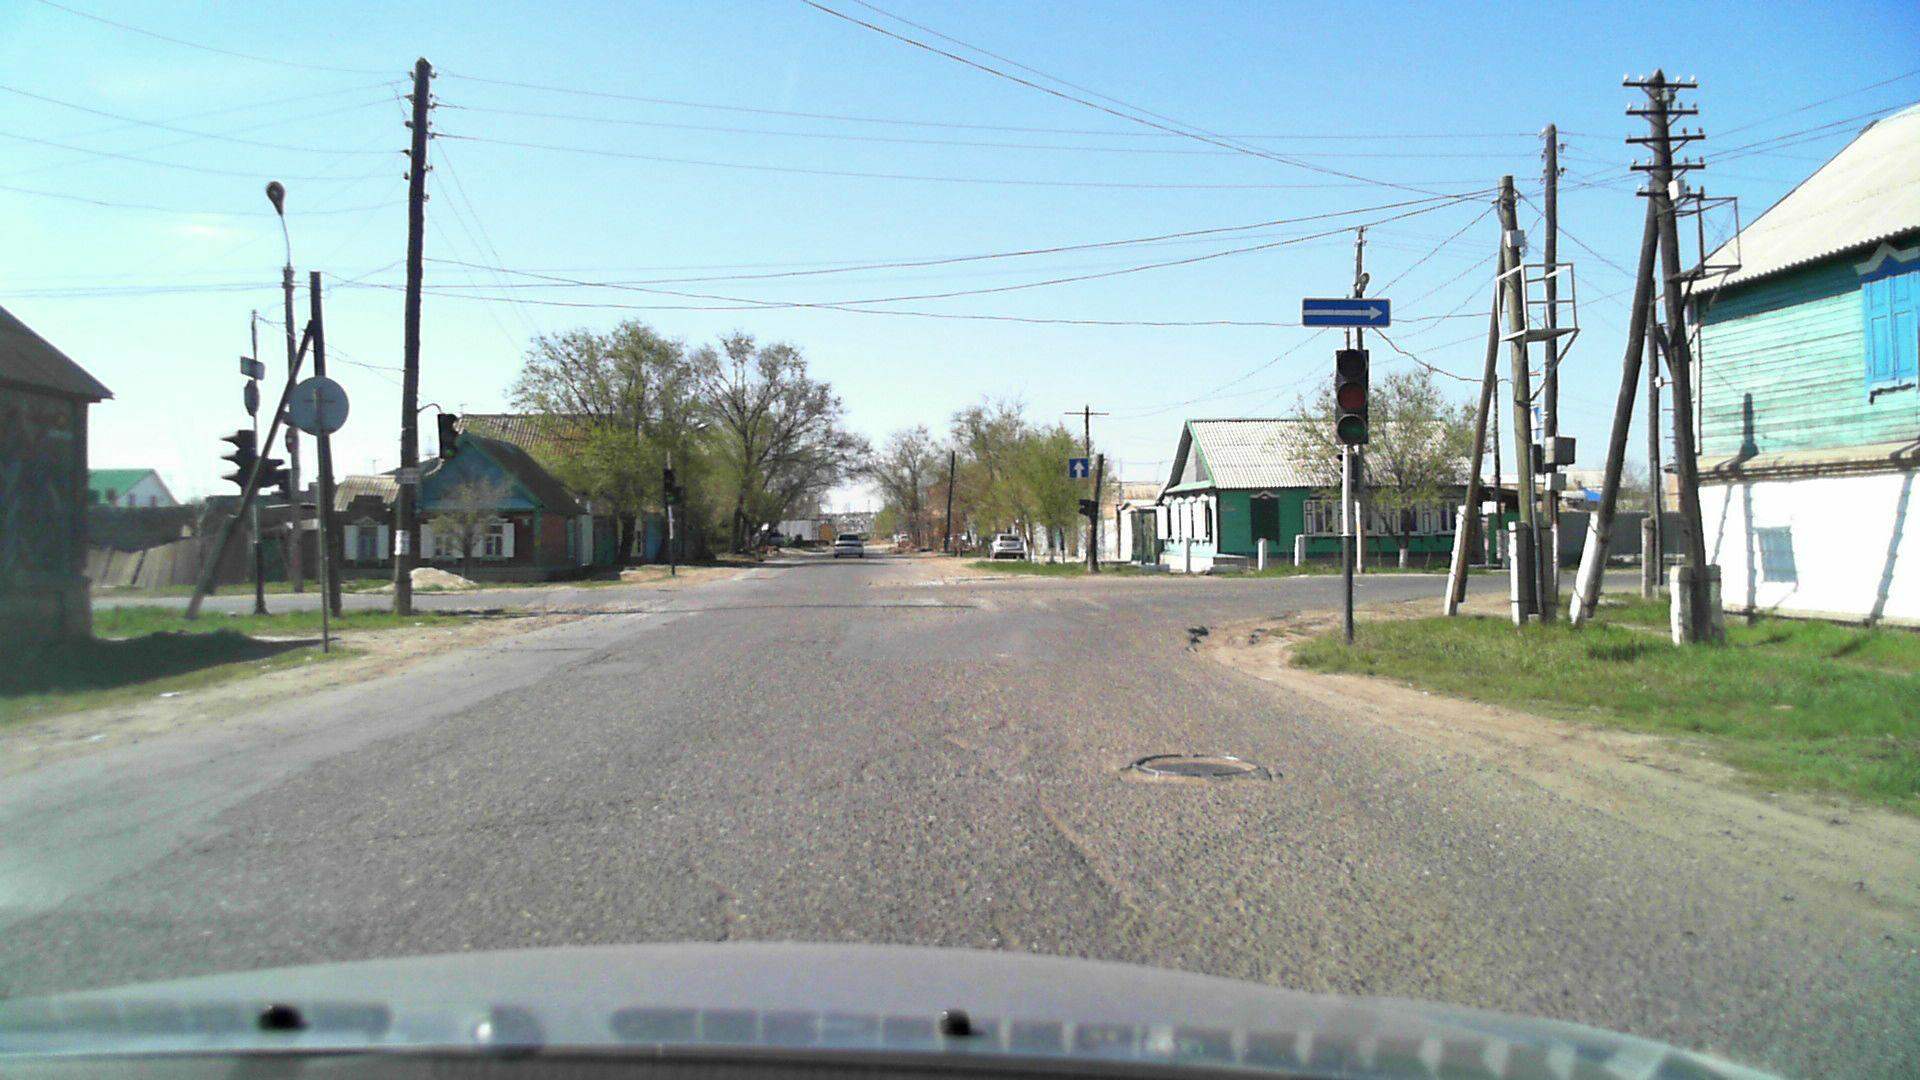5_5: (1067, 455, 1092, 479)
5_7_1: (1299, 296, 1392, 328)
